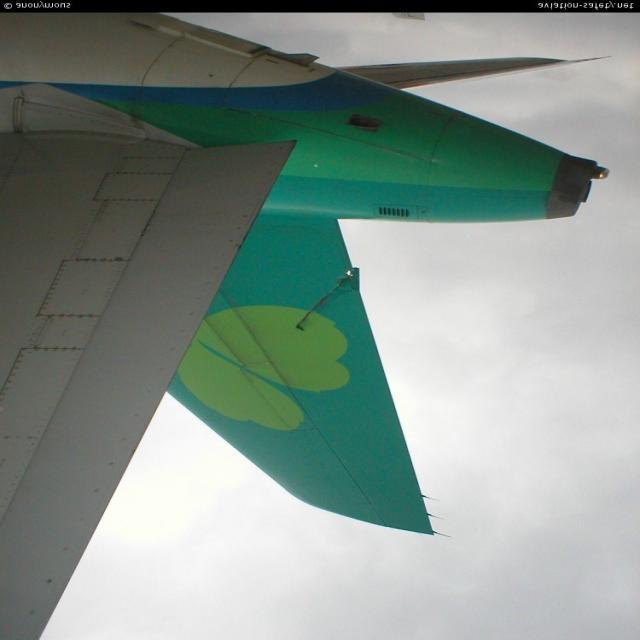crack: (299, 265, 362, 329)
